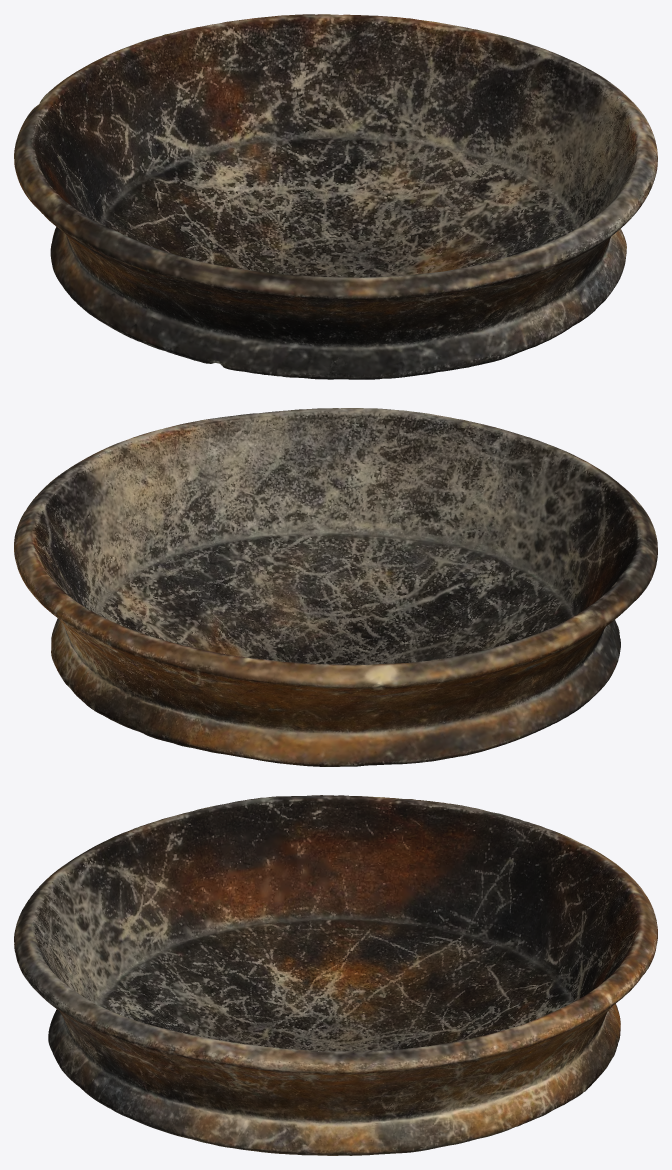
The picture shows the model from 3 angles, top to bottom: view 1: azimuth 30°, elevation 25°; view 2: azimuth 150°, elevation 25°; view 3: azimuth 270°, elevation 25°; orthographic projection.
Visible parts, largest first — view 1: Mesh_0.016; view 2: Mesh_0.016; view 3: Mesh_0.016.
Boxes of the visible parts, box(x1,y1,x2,y2) form: Mesh_0.016: box(14, 14, 657, 379); Mesh_0.016: box(14, 408, 657, 766); Mesh_0.016: box(14, 795, 657, 1155).
Size of the model in its own units: 0.2017 by 0.0674 by 0.2033.
Materials: 1 (1 with a texture image).
